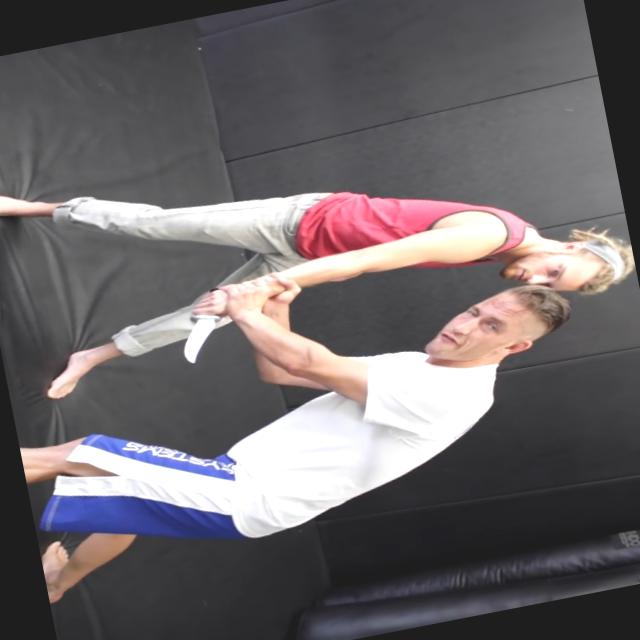knife: (164, 282, 238, 370)
